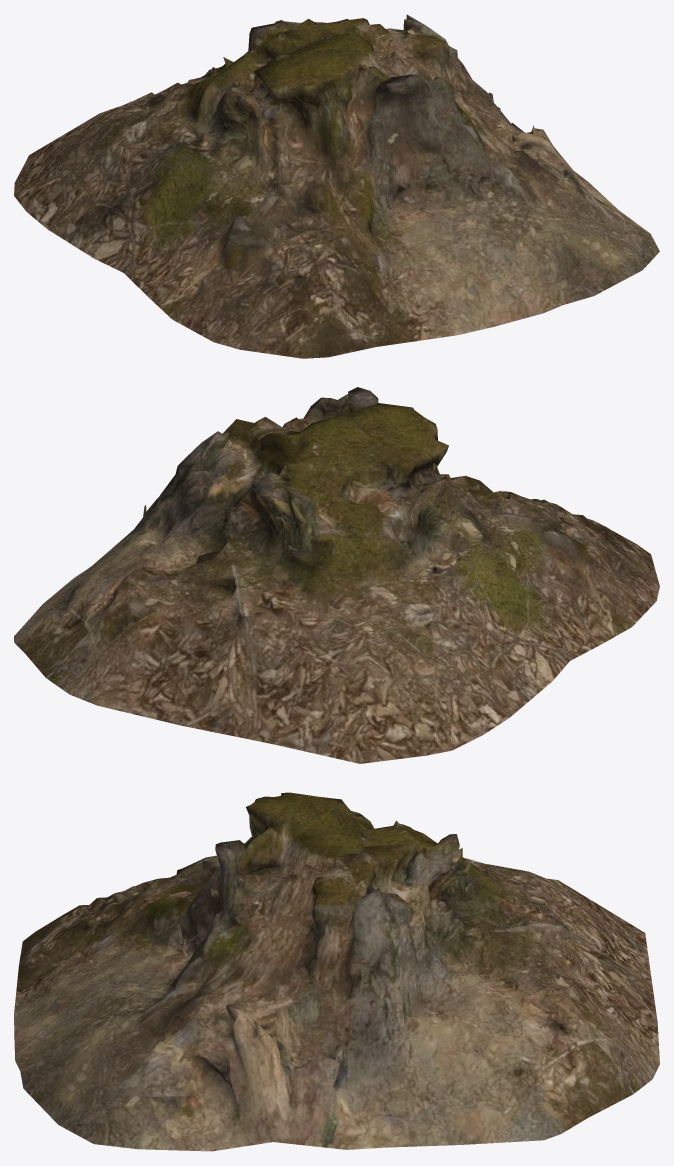
The model's file is tree_stump_01.glb.
3 renders of one model, top to bottom at view 1: azimuth 30°, elevation 25°; view 2: azimuth 150°, elevation 25°; view 3: azimuth 270°, elevation 25°, orthographic. The views are drawn at different scales.
Parts seen in each view (by area): view 1: tree_stump_01; view 2: tree_stump_01; view 3: tree_stump_01.
Boxes of the visible parts, bbox=[...] form: tree_stump_01: bbox=[14, 14, 659, 358]; tree_stump_01: bbox=[14, 387, 659, 763]; tree_stump_01: bbox=[14, 792, 659, 1151].
Size of the model in its own units: 1.43 by 0.57 by 1.59.
Materials: 1 (1 with a texture image).
